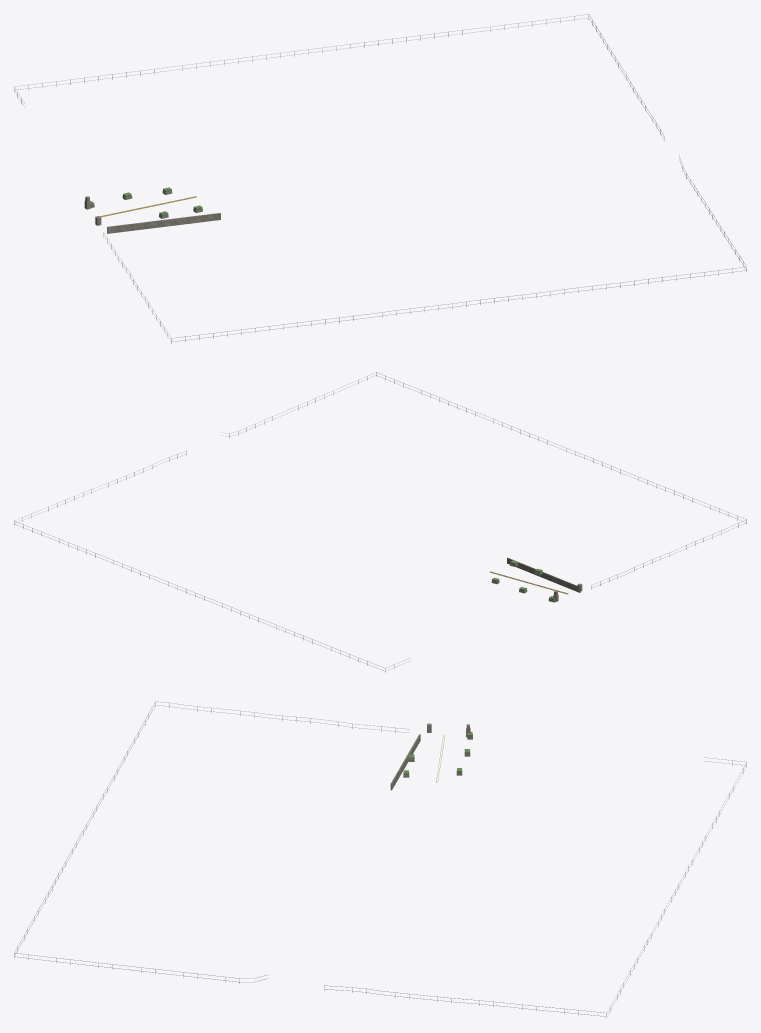
3 renders of one model, top to bottom at view 1: azimuth 30°, elevation 25°; view 2: azimuth 150°, elevation 25°; view 3: azimuth 270°, elevation 25°, orthographic. The views are drawn at different scales.
Parts seen in each view (by area): view 1: school-boundary-fence, gate-court-retaining-wall; view 2: school-boundary-fence; view 3: school-boundary-fence.
Boxes of the visible parts, left/top/right/bottom form: school-boundary-fence: left=14, top=14, right=746, bottom=343; gate-court-retaining-wall: left=107, top=213, right=220, bottom=233; school-boundary-fence: left=14, top=372, right=746, bottom=672; school-boundary-fence: left=14, top=701, right=746, bottom=1018.
Size of the model in its own units: 141 by 3.8 by 138.
4 materials, 1 textured.
